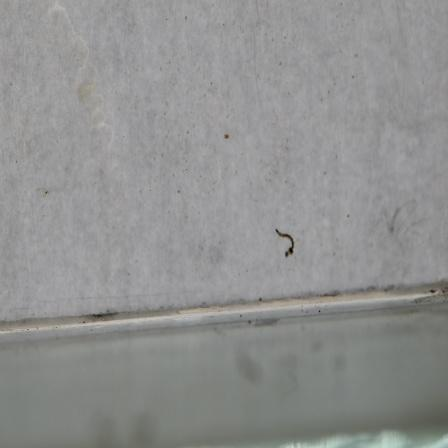Jentik-Nyamuk: (272, 223, 299, 261)
